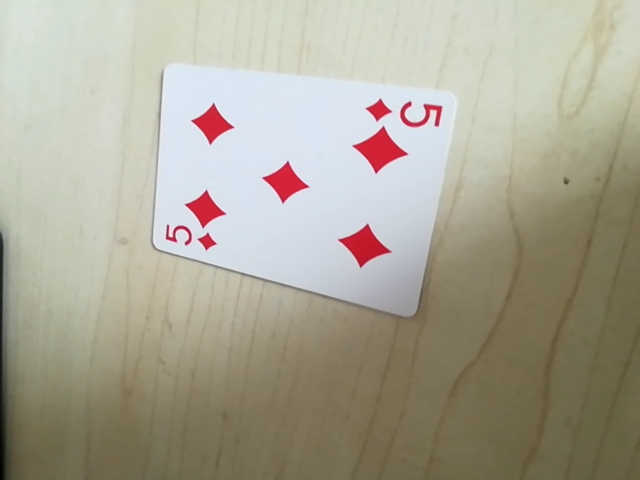fk 5: (362, 91, 448, 130), (161, 222, 221, 257)
